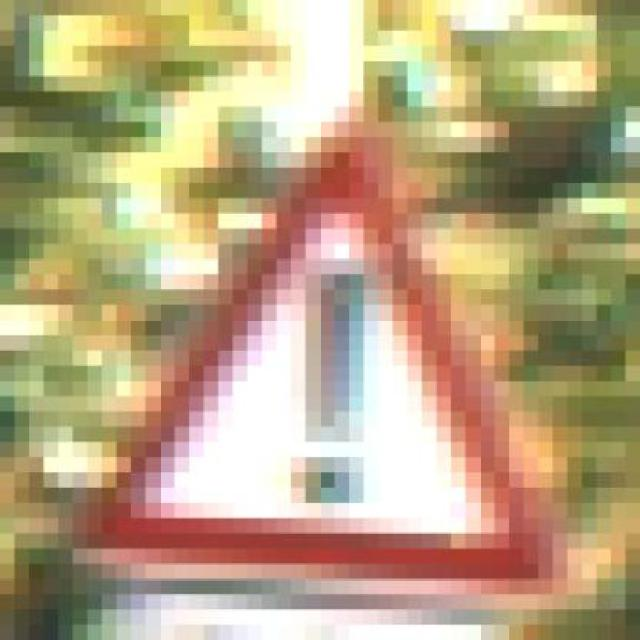Attention Please-: (87, 92, 567, 610)
